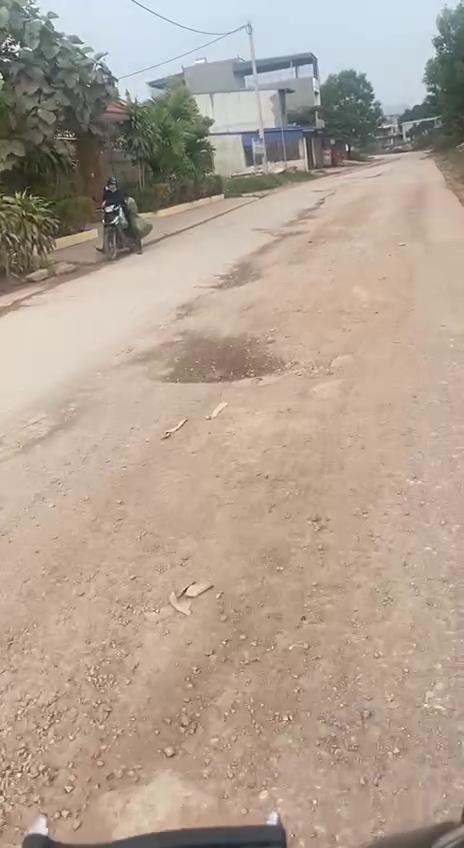pothole: (306, 249, 428, 384), (126, 319, 306, 394), (206, 246, 264, 296)
